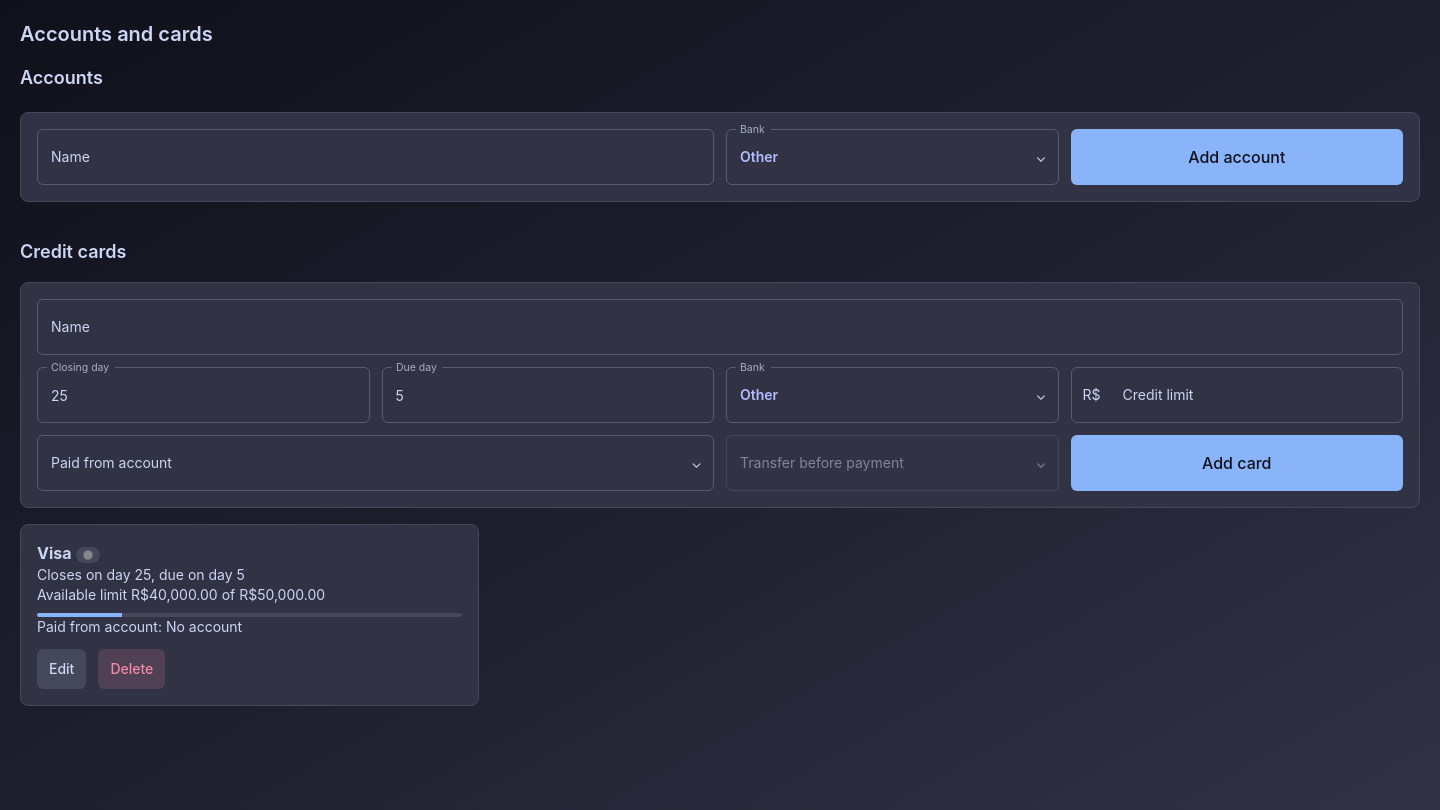
validates days inline
The image size is (1440, 810).
Replace the text in the number field labelled "Closing day" with "32" at (203, 395), box [37,367,370,423]
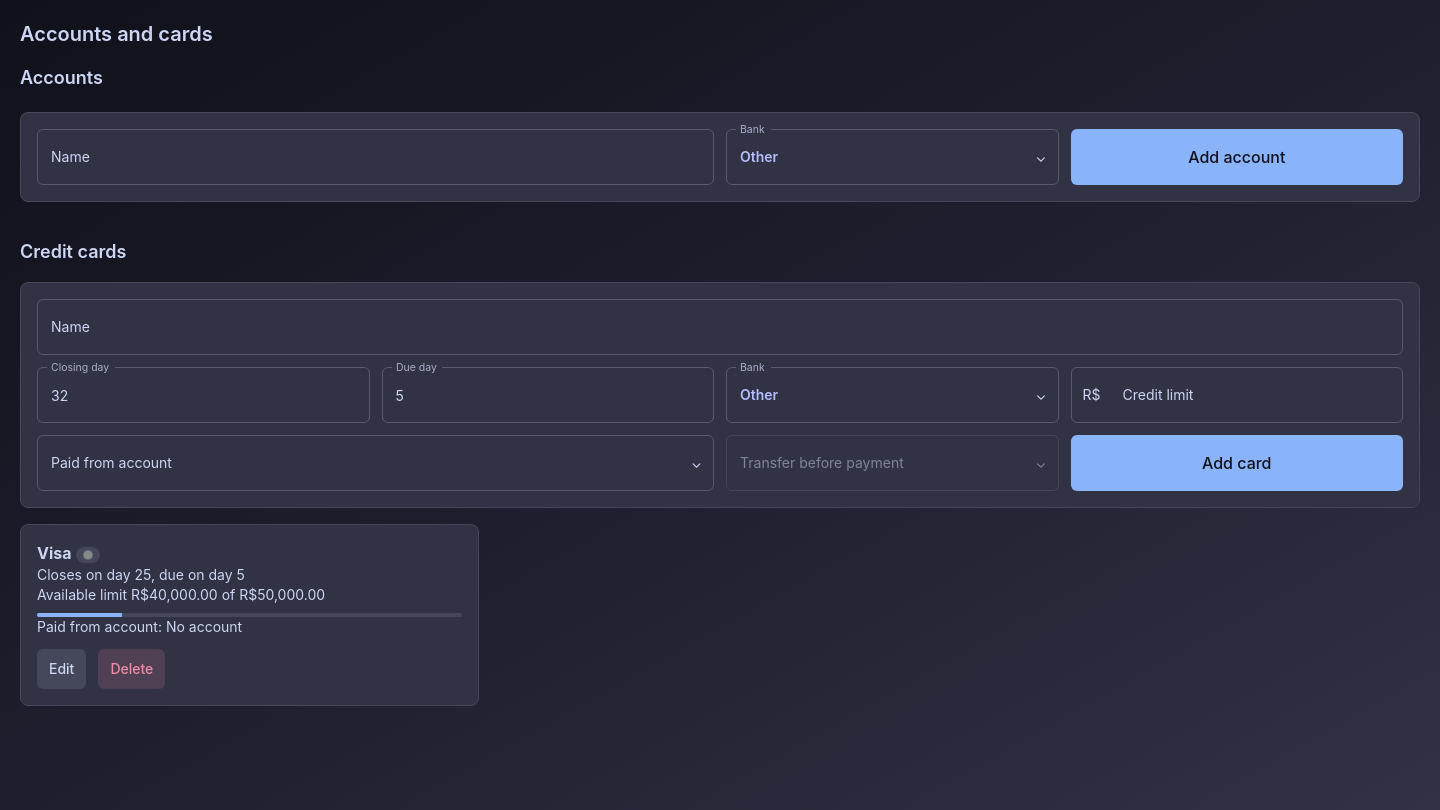
Click the button "Add card" at (1237, 463), box [1070,435,1403,491]
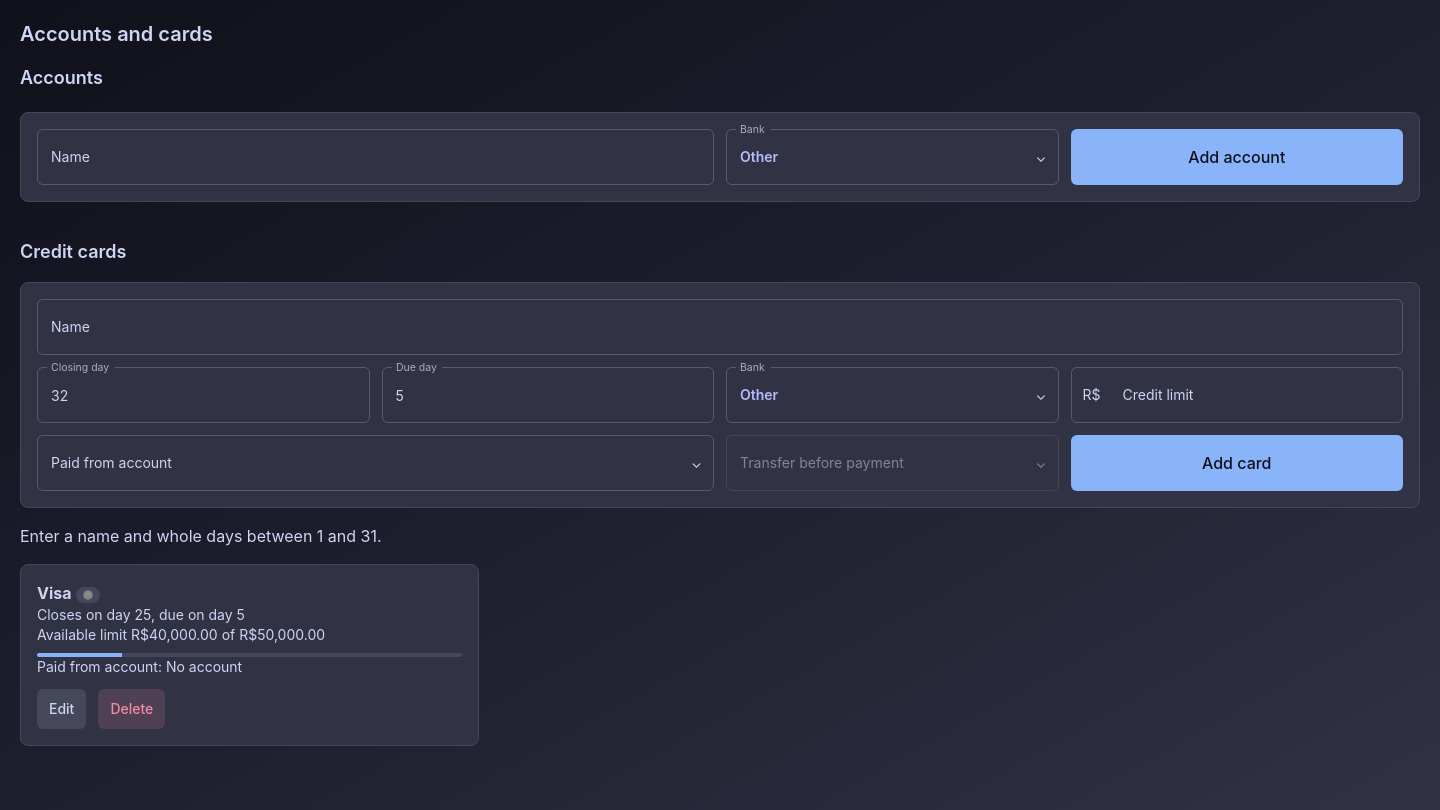
expect the message reads "Enter a name and whole days between 1 and 31.": met, box [20,526,382,546]
